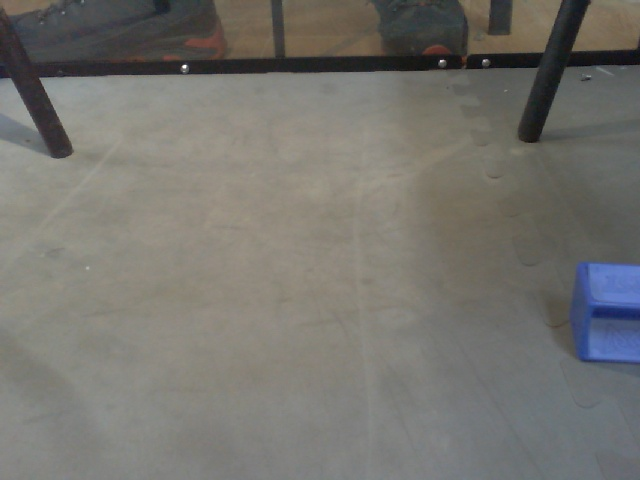BlueSample: (565, 260, 640, 368)
